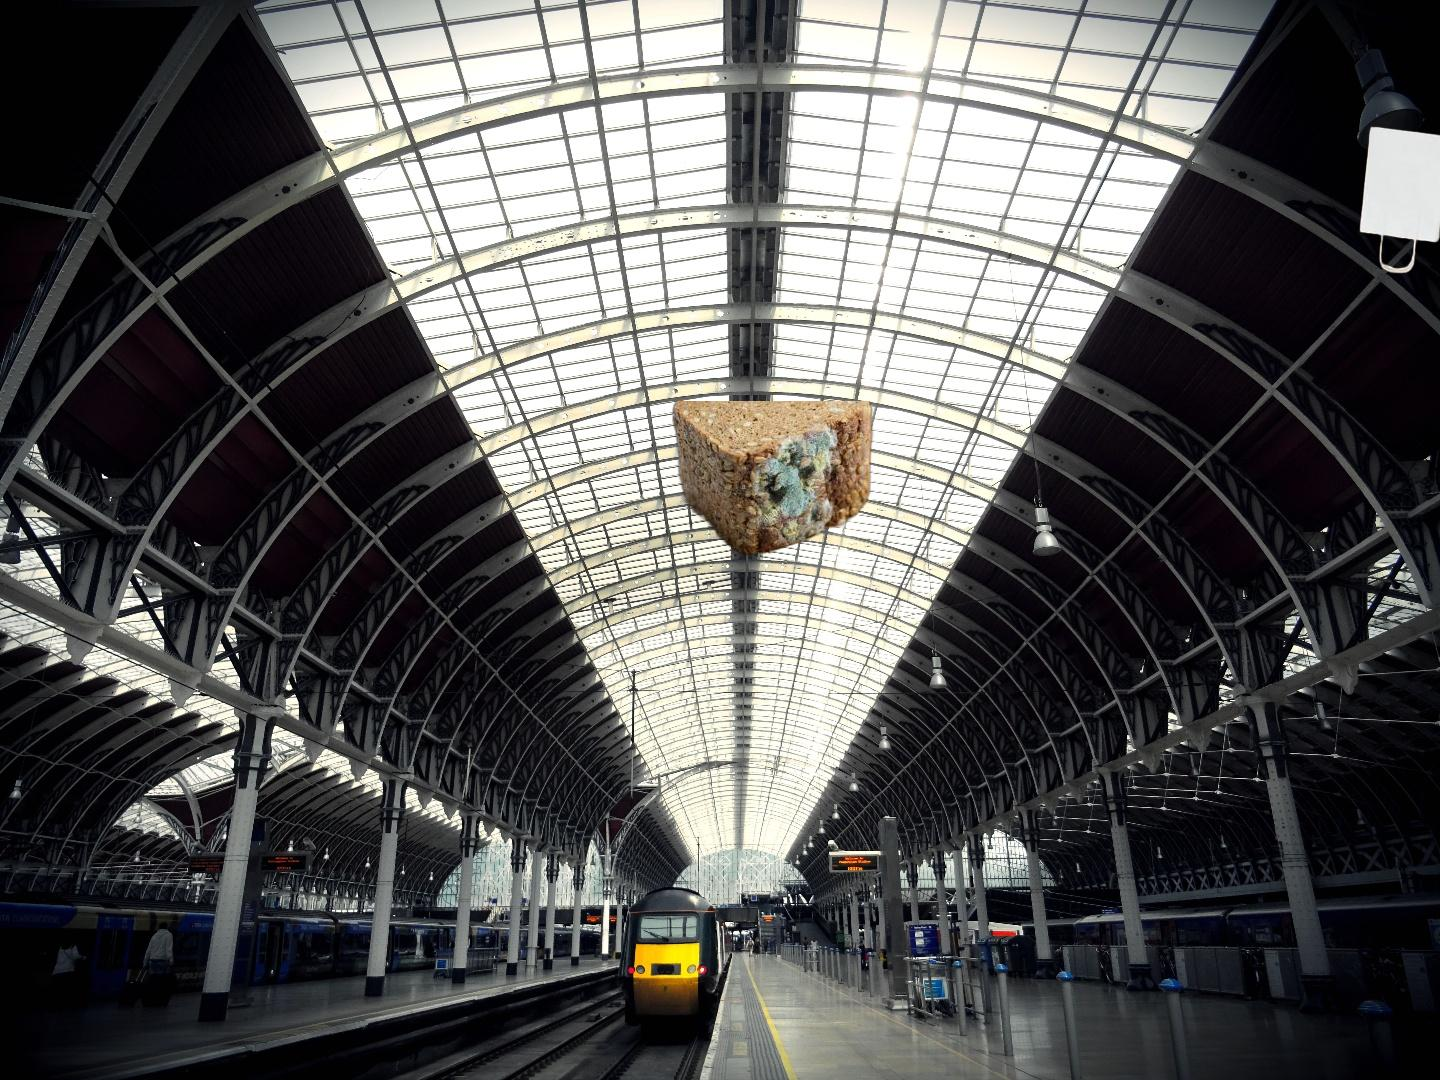biological: (670, 400, 876, 558)
paper-bag: (1356, 125, 1440, 340)
